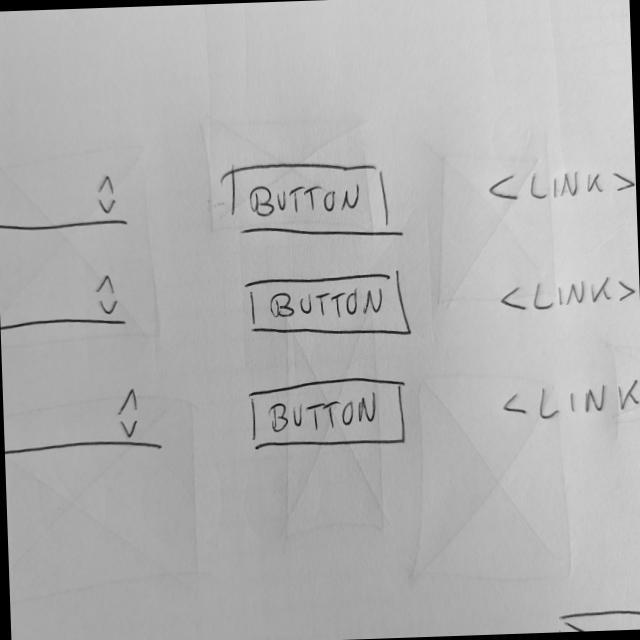button: (226, 156, 398, 249), (247, 374, 413, 457), (246, 272, 416, 345)
link: (499, 374, 640, 424), (485, 164, 637, 209), (497, 274, 640, 320)
number-input: (3, 382, 166, 465), (1, 164, 131, 237), (1, 265, 129, 338)
